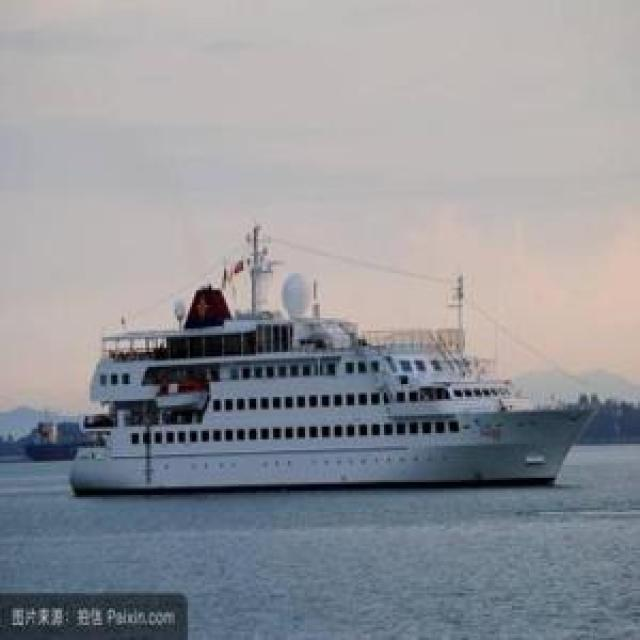passenger ship: (66, 281, 590, 490)
